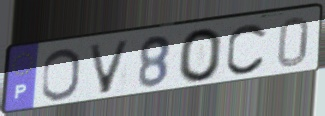0: (274, 15, 311, 71)
8: (136, 34, 172, 90)
C: (224, 21, 269, 76)
O: (178, 26, 225, 85), (39, 46, 82, 102)
V: (86, 38, 133, 97)
